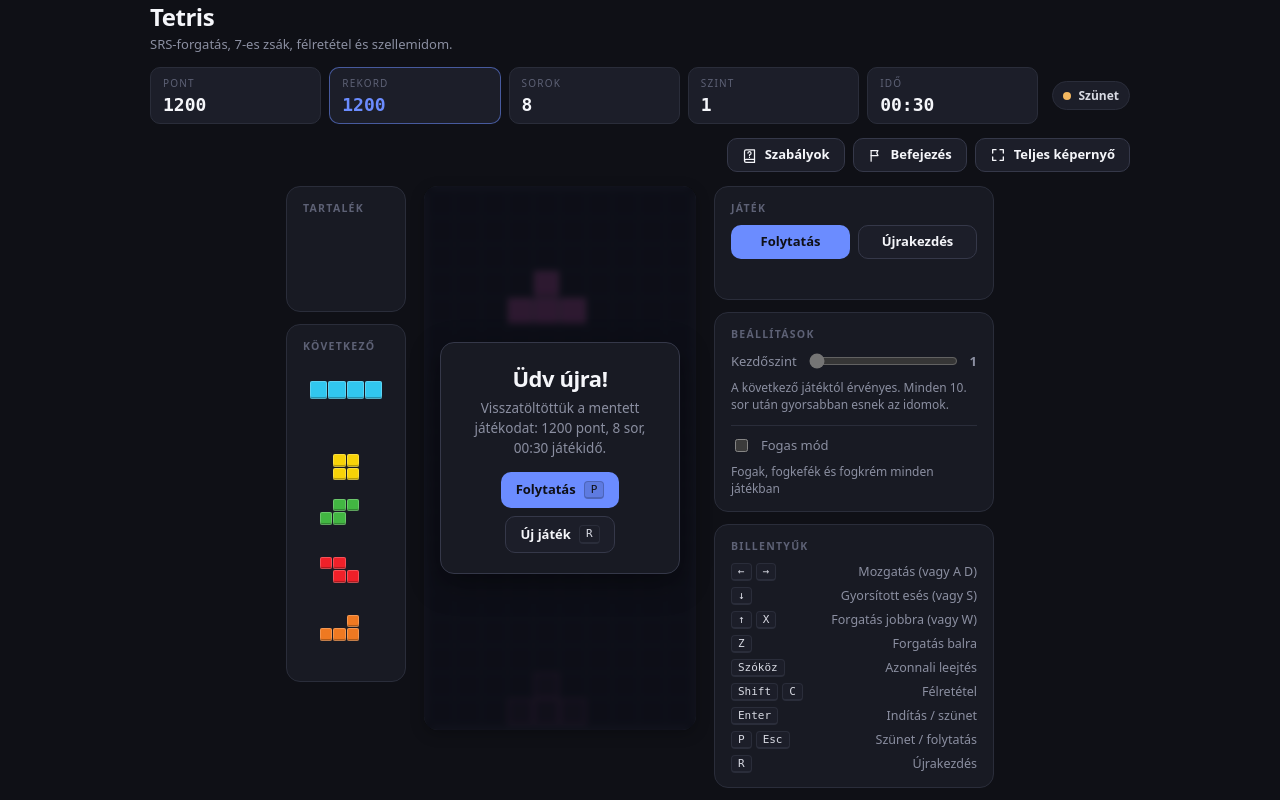
Test: Tetris finish early › confirm ranks the current score once, says „Idő előtt befejezve” and drops the save
Step 1. Press p
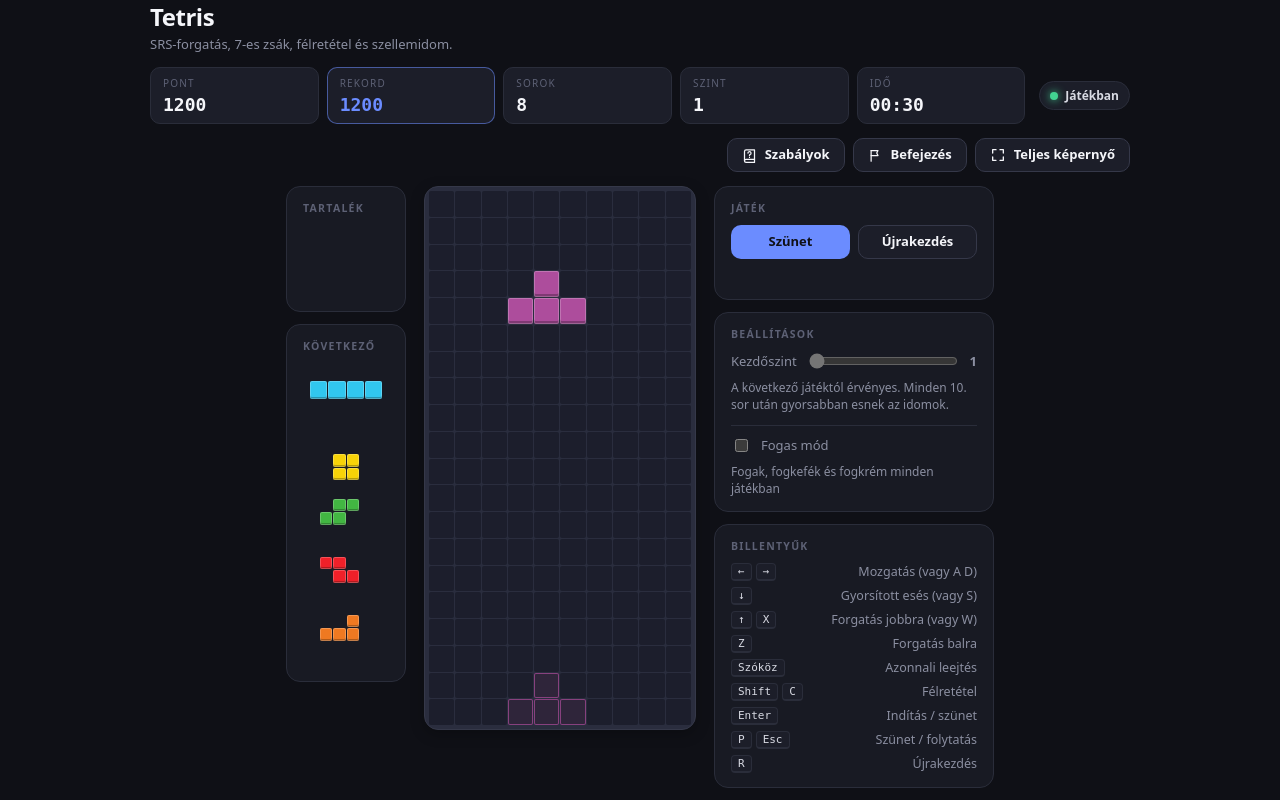
Step 2. Click the button "Befejezés" → (910, 155), box [853,138,967,172]
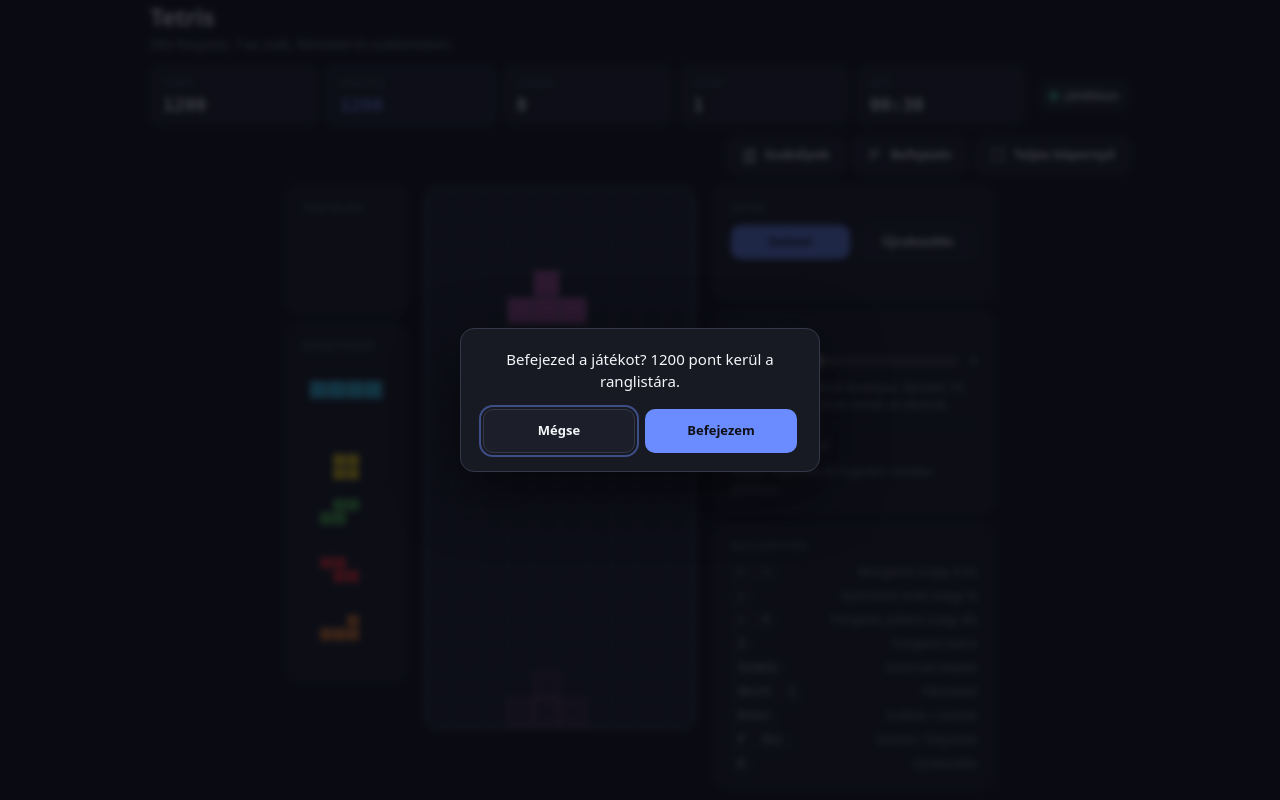
Step 3. Click the button "Befejezem" → (721, 431), box [645,409,797,453]
Wait 1000 ms
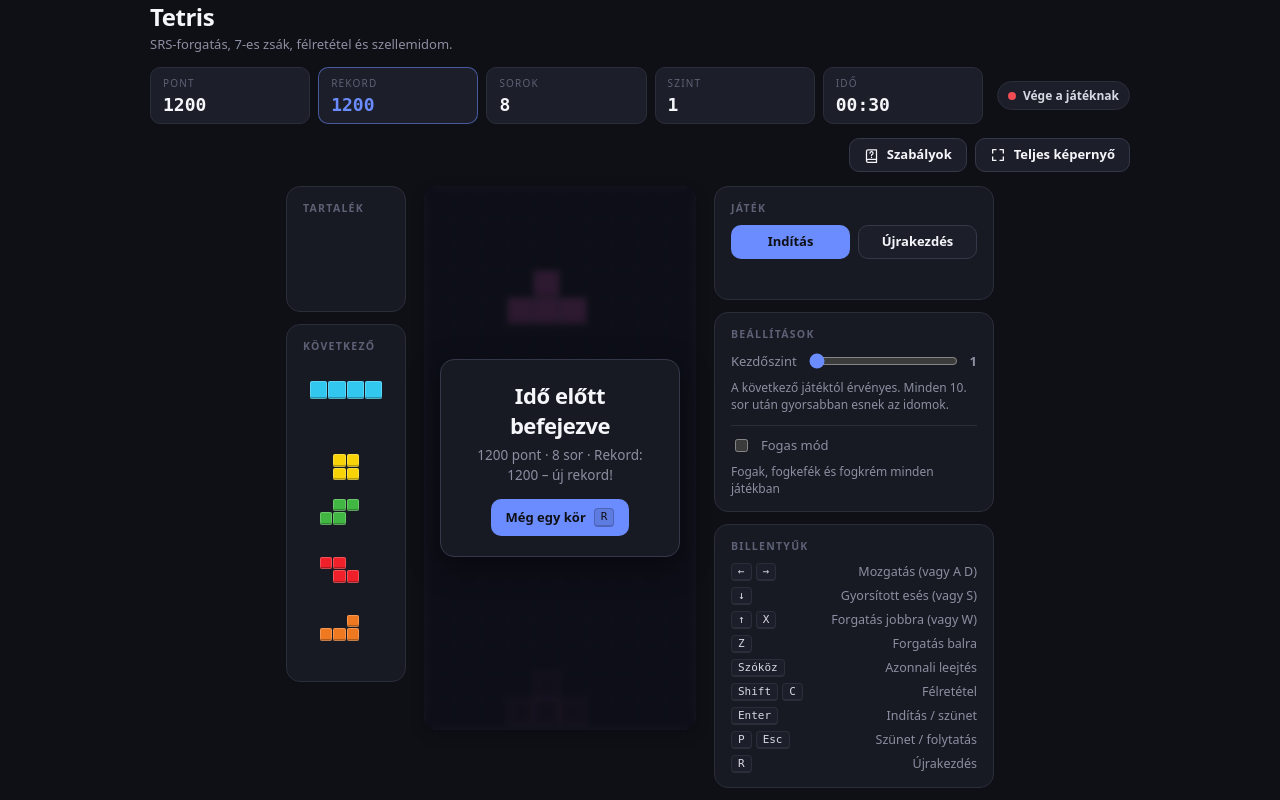
Now the dialog "Idő előtt befejezve" is shown, box [424,186,696,730]
Now the button "Befejezés" is gone
